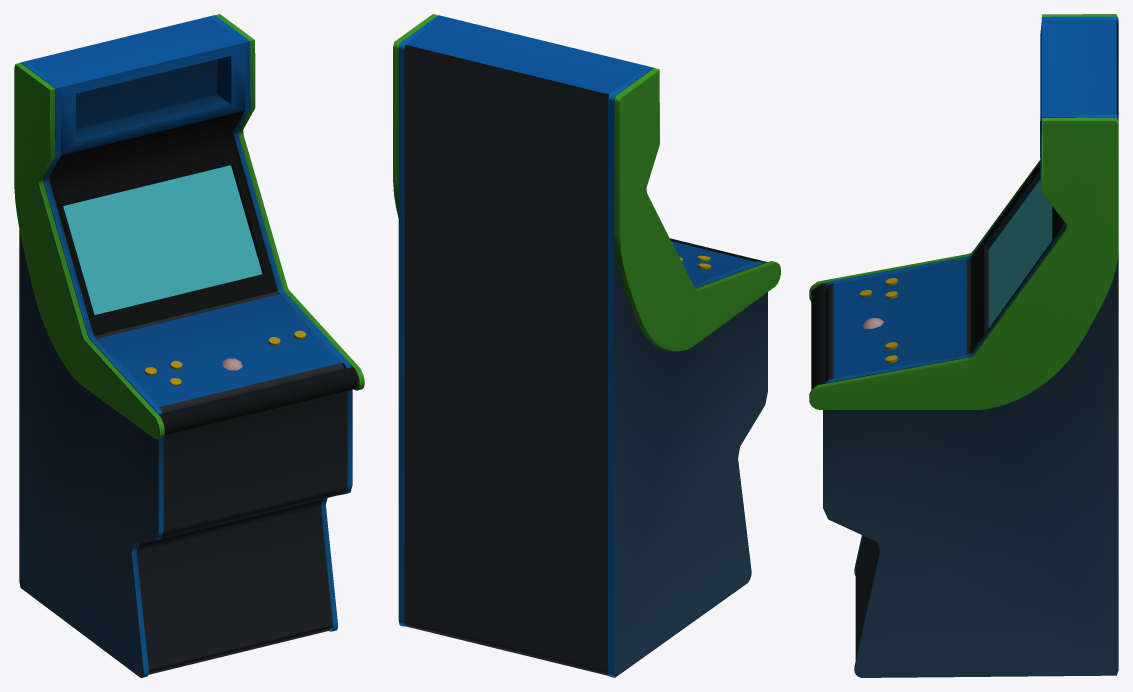
3 renders of one model, left to right at view 1: azimuth 30°, elevation 25°; view 2: azimuth 150°, elevation 25°; view 3: azimuth 270°, elevation 25°, orthographic. The views are drawn at different scales.
Visible parts, largest first — view 1: screen.004; view 2: screen.004; view 3: screen.004.
Boxes of the visible parts, x1,y1,x2,y2 form: screen.004: (14,14,364,677); screen.004: (393,14,780,677); screen.004: (809,14,1118,677).
Size of the model in its own units: 0.2034 by 0.5 by 0.2502.
